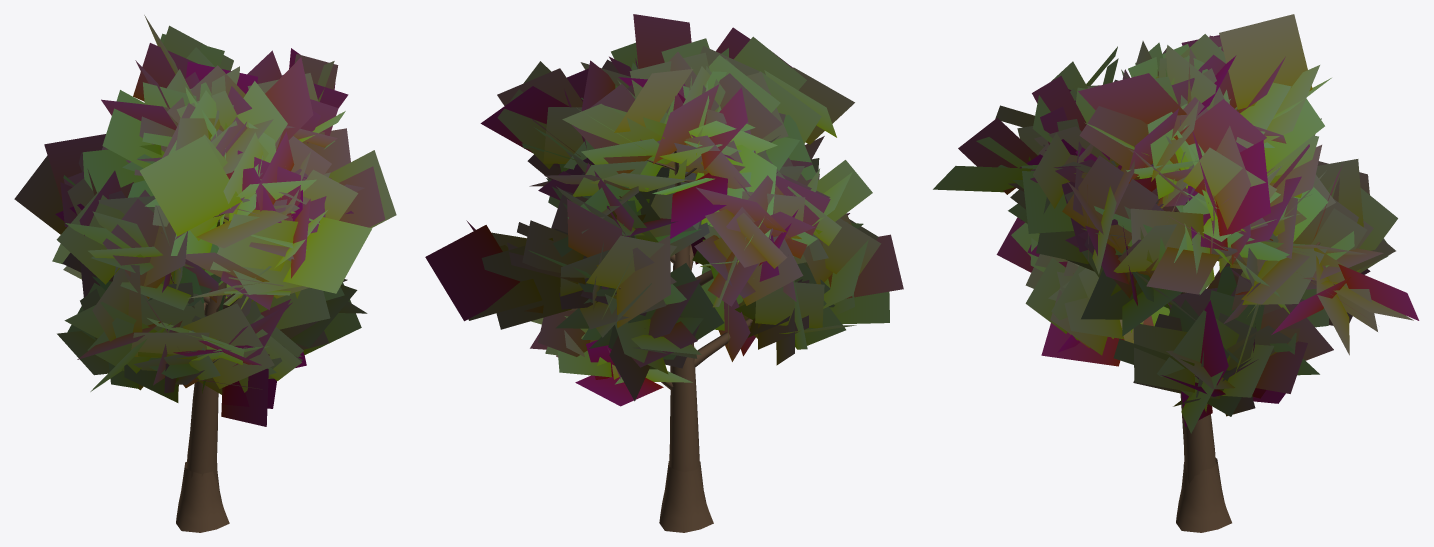
Rendered from tree_maple_2.glb.
3 renders of one model, left to right at view 1: azimuth 30°, elevation 25°; view 2: azimuth 150°, elevation 25°; view 3: azimuth 270°, elevation 25°, orthographic. The views are drawn at different scales.
Visible parts, largest first — view 1: Leaves, Trunk; view 2: Leaves, Trunk; view 3: Leaves, Trunk.
Part boxes in pixels (x1,y1,x2,y2): Leaves: [14, 15, 396, 426]; Trunk: [171, 213, 238, 532]; Leaves: [425, 14, 903, 406]; Trunk: [615, 139, 752, 532]; Leaves: [933, 14, 1419, 433]; Trunk: [1149, 109, 1335, 532].
Size of the model in its own units: 5.66 by 7.62 by 6.72.
